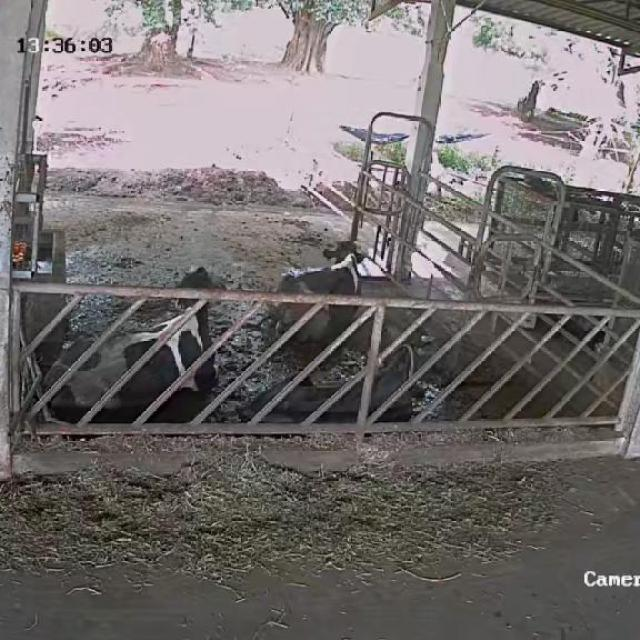lying down: (61, 272, 235, 424), (240, 341, 419, 430), (267, 236, 363, 338)
